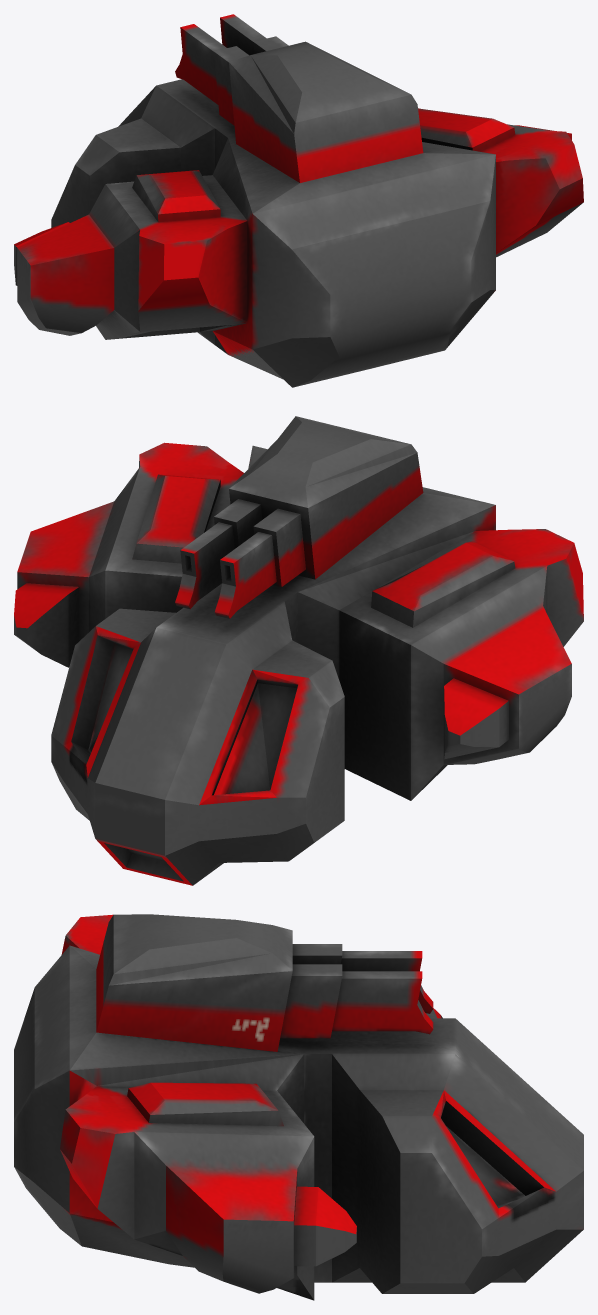
The model's file is hoverTank3.dae.
The picture shows the model from 3 angles, top to bottom: view 1: azimuth 30°, elevation 25°; view 2: azimuth 150°, elevation 25°; view 3: azimuth 270°, elevation 25°; orthographic projection. The views are drawn at different scales.
Parts seen in each view (by area): view 1: hovertank3_lp.002; view 2: hovertank3_lp.002; view 3: hovertank3_lp.002.
Boxes of the visible parts, <box> form: hovertank3_lp.002: <box>14,14,583,387</box>; hovertank3_lp.002: <box>14,416,583,885</box>; hovertank3_lp.002: <box>14,914,583,1300</box>.
Size of the model in its own units: 5.22 by 4.52 by 2.94.
1 material, 1 textured.
